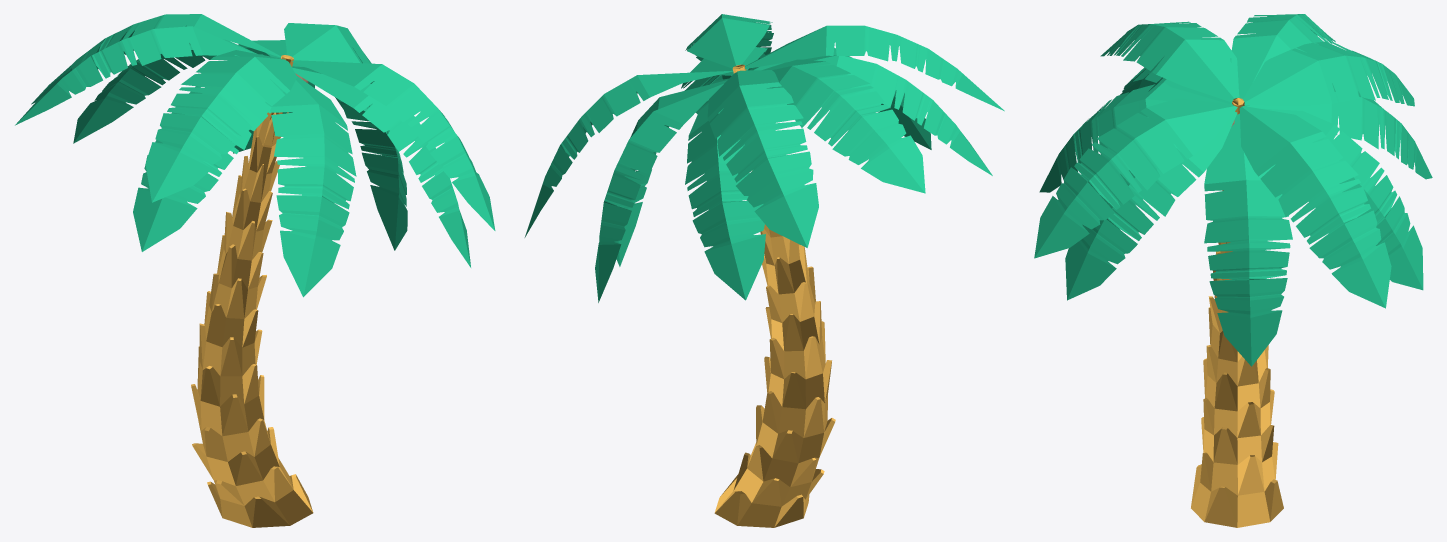
File: Palm.fbx
3 renders of one model, left to right at view 1: azimuth 30°, elevation 25°; view 2: azimuth 150°, elevation 25°; view 3: azimuth 270°, elevation 25°, orthographic. The views are drawn at different scales.
Parts seen in each view (by area): view 1: Leaves, Tree_Base; view 2: Leaves, Tree_Base; view 3: Leaves, Tree_Base.
Part boxes in pixels (left/top/right/bottom): Leaves: left=15, top=14, right=495, bottom=297; Tree_Base: left=191, top=55, right=313, bottom=527; Leaves: left=524, top=14, right=1004, bottom=302; Tree_Base: left=714, top=64, right=835, bottom=527; Leaves: left=1034, top=14, right=1432, bottom=366; Tree_Base: left=1191, top=97, right=1283, bottom=527.
Size of the model in its own units: 1114 by 1363 by 1091.
